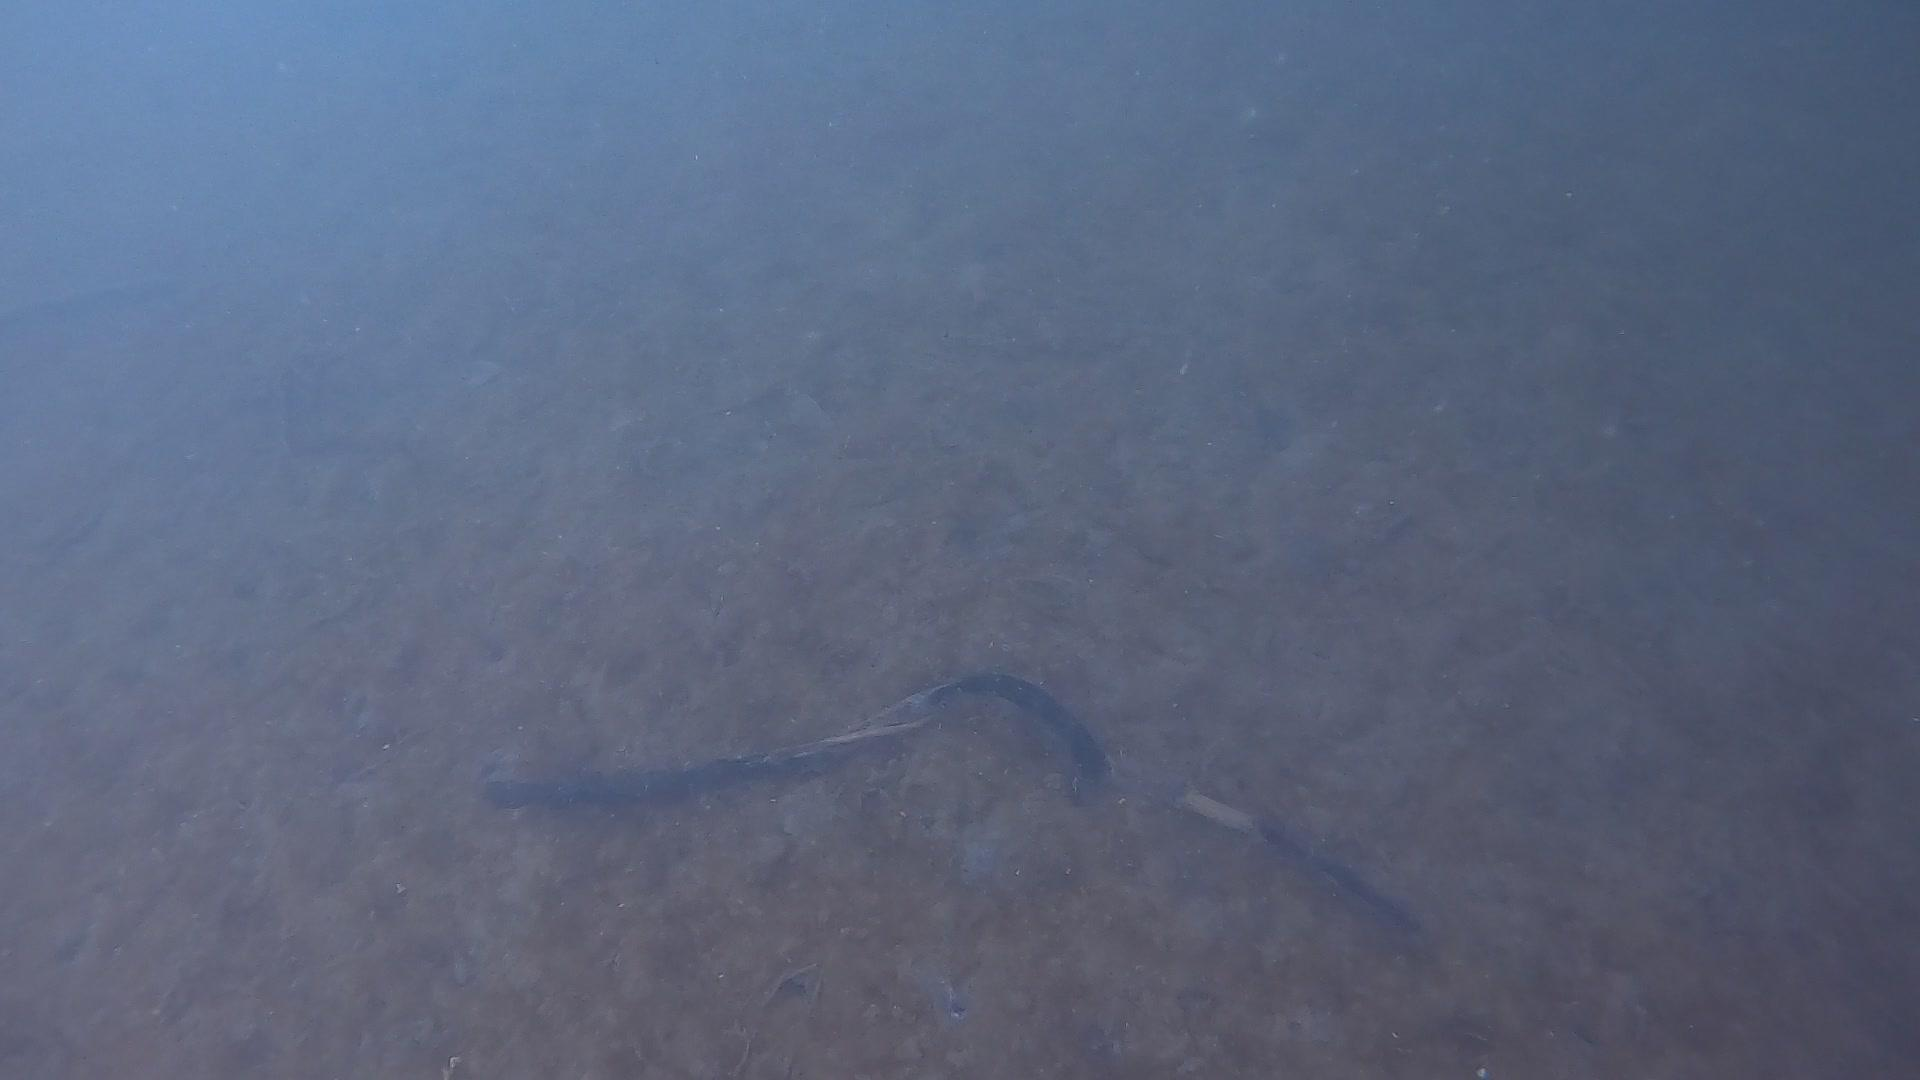wood: (479, 669, 1420, 939)
